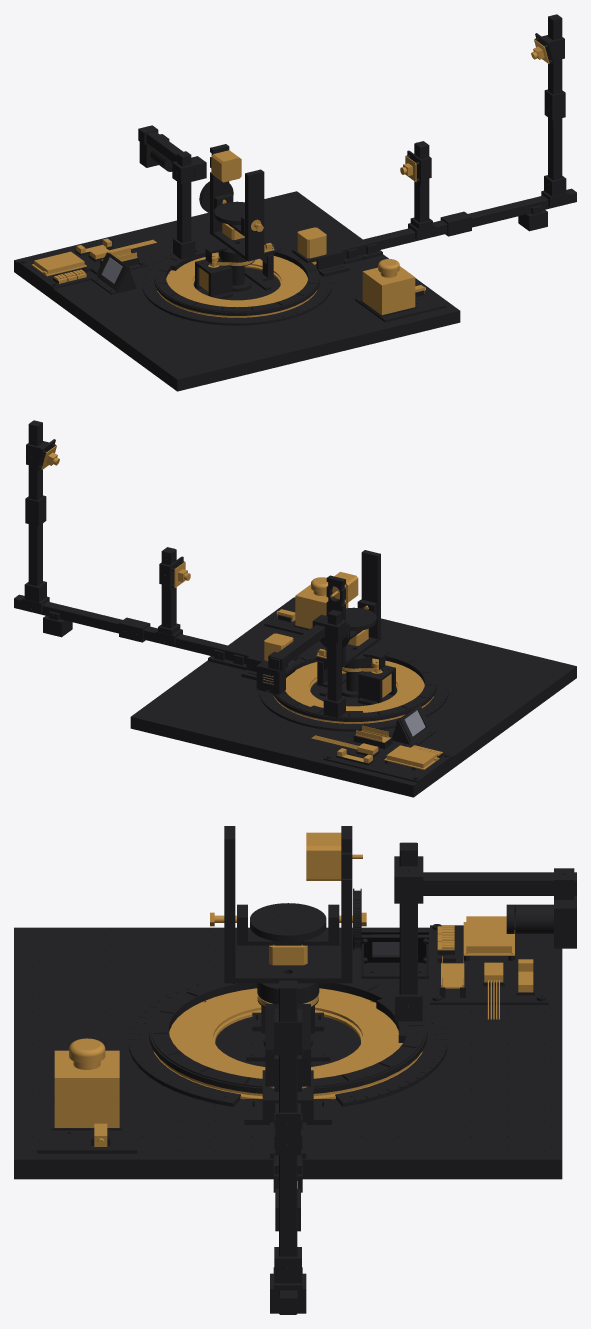
The model's file is opengonio_assembly.glb.
3 renders of one model, top to bottom at view 1: azimuth 30°, elevation 25°; view 2: azimuth 150°, elevation 25°; view 3: azimuth 270°, elevation 25°, orthographic. The views are drawn at different scales.
Visible parts, largest first — view 1: FRM-01a_deck_SW, FRM-01b_deck_S, FRM-01d_deck_W, FRM-01c_deck_SE, LAR-01_lazy_susan, FRM-01i_deck_NE, TLT-07a_tilt_yoke, PWR-28_estop, FRM-01h_deck_N, FRM-01g_deck_NW, CTL-10b_controller_tray, FRM-09h_camera_pillar (+31 smaller); view 2: FRM-01i_deck_NE, FRM-01a_deck_SW, FRM-01h_deck_N, FRM-01d_deck_W, FRM-01b_deck_S, FRM-01g_deck_NW, LAR-01_lazy_susan, TLT-07a_tilt_yoke, CTL-10b_controller_tray, FRM-01f_deck_E, FRM-09h_camera_pillar, PWR-28_estop (+26 smaller); view 3: FRM-01i_deck_NE, FRM-01a_deck_SW, FRM-01c_deck_SE, FRM-01f_deck_E, FRM-01h_deck_N, LAR-01_lazy_susan, FRM-01b_deck_S, CTL-10b_controller_tray, TLT-07a_tilt_yoke, PWR-28_estop, FRM-01d_deck_W, PWR-18_power_plate (+32 smaller).
Boxes of the visible parts, <box> form: FRM-01a_deck_SW: <box>123,322,271,391</box>; FRM-01b_deck_S: <box>229,302,365,368</box>; FRM-01d_deck_W: <box>68,282,196,351</box>; FRM-01c_deck_SE: <box>323,278,460,345</box>; LAR-01_lazy_susan: <box>157,252,316,317</box>; FRM-01i_deck_NE: <box>203,191,350,247</box>; TLT-07a_tilt_yoke: <box>210,144,264,261</box>; PWR-28_estop: <box>362,259,415,314</box>; FRM-01h_deck_N: <box>108,214,220,266</box>; FRM-01g_deck_NW: <box>14,237,149,311</box>; CTL-10b_controller_tray: <box>18,238,147,288</box>; FRM-09h_camera_pillar: <box>408,141,435,239</box>; FRM-01i_deck_NE: <box>130,677,267,751</box>; FRM-01a_deck_SW: <box>441,643,576,717</box>; FRM-01h_deck_N: <box>225,708,355,774</box>; FRM-01d_deck_W: <box>394,688,522,757</box>; FRM-01b_deck_S: <box>370,620,482,672</box>; FRM-01g_deck_NW: <box>319,728,467,797</box>; LAR-01_lazy_susan: <box>274,658,433,723</box>; TLT-07a_tilt_yoke: <box>326,550,380,667</box>; CTL-10b_controller_tray: <box>323,730,452,782</box>; FRM-01f_deck_E: <box>185,637,307,694</box>; FRM-09h_camera_pillar: <box>155,547,182,645</box>; PWR-28_estop: <box>295,577,348,628</box>; FRM-01i_deck_NE: <box>379,1082,562,1179</box>; FRM-01a_deck_SW: <box>14,927,196,1004</box>; FRM-01c_deck_SE: <box>14,1082,196,1179</box>; FRM-01f_deck_E: <box>196,1099,379,1179</box>; FRM-01h_deck_N: <box>419,1005,562,1082</box>; LAR-01_lazy_susan: <box>154,988,422,1099</box>; FRM-01b_deck_S: <box>14,1005,156,1082</box>; CTL-10b_controller_tray: <box>430,924,548,1004</box>; TLT-07a_tilt_yoke: <box>224,826,352,983</box>; PWR-28_estop: <box>54,1038,119,1127</box>; FRM-01d_deck_W: <box>196,927,379,984</box>; PWR-18_power_plate: <box>37,1099,137,1153</box>.
Bounding box in the file's own units: 1.01 × 0.41 × 0.616.
